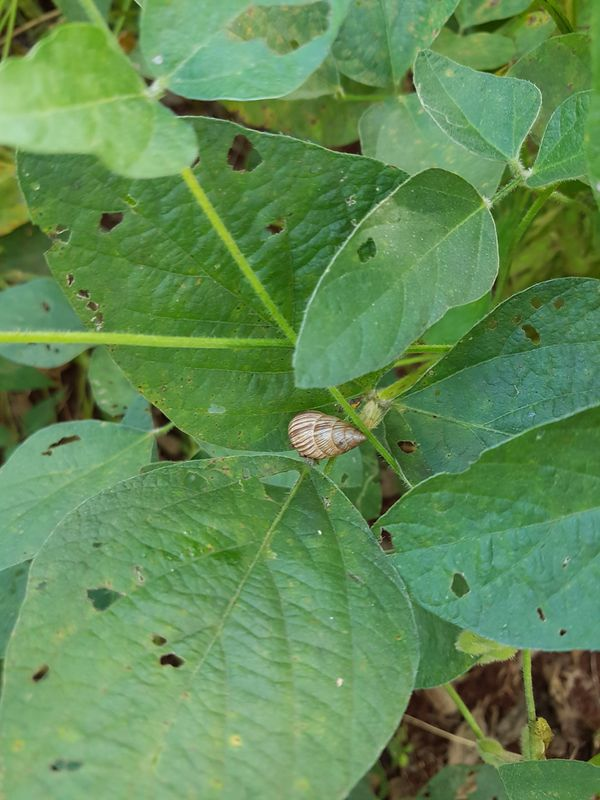Gastropoda: (282, 404, 370, 473)
